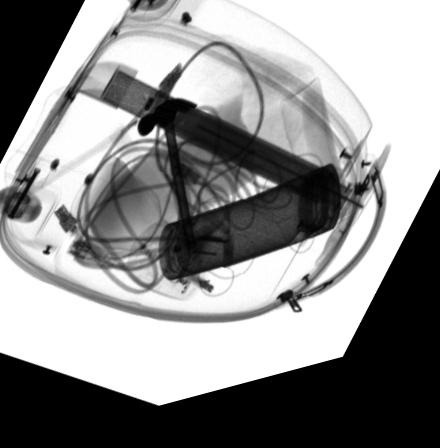Hammer: (136, 108, 198, 262)
